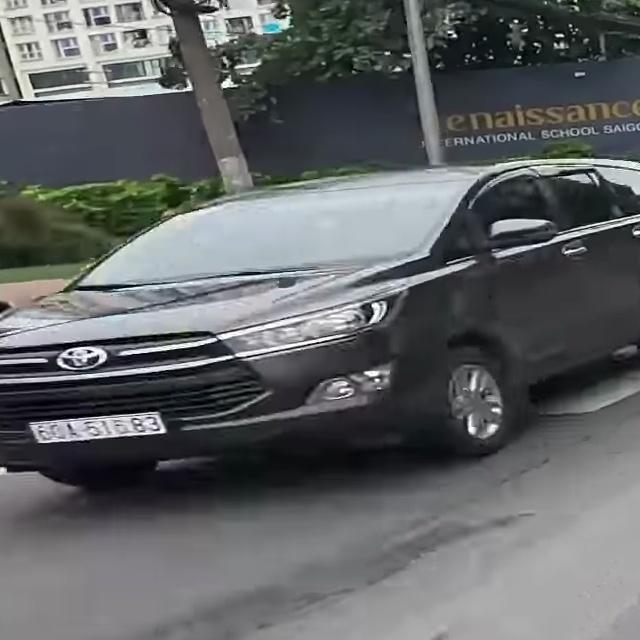license-plate: (29, 413, 168, 444)
